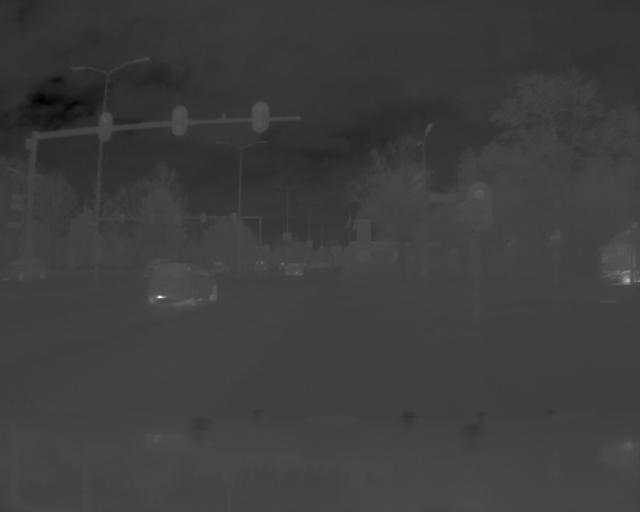car: (148, 261, 219, 309)
